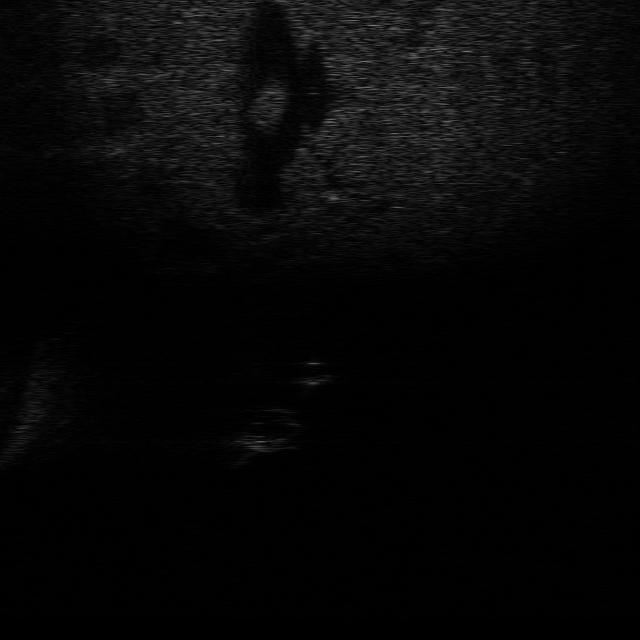ball: (288, 354, 334, 388)
square cage: (230, 429, 290, 466)
tyre: (253, 400, 305, 438)
